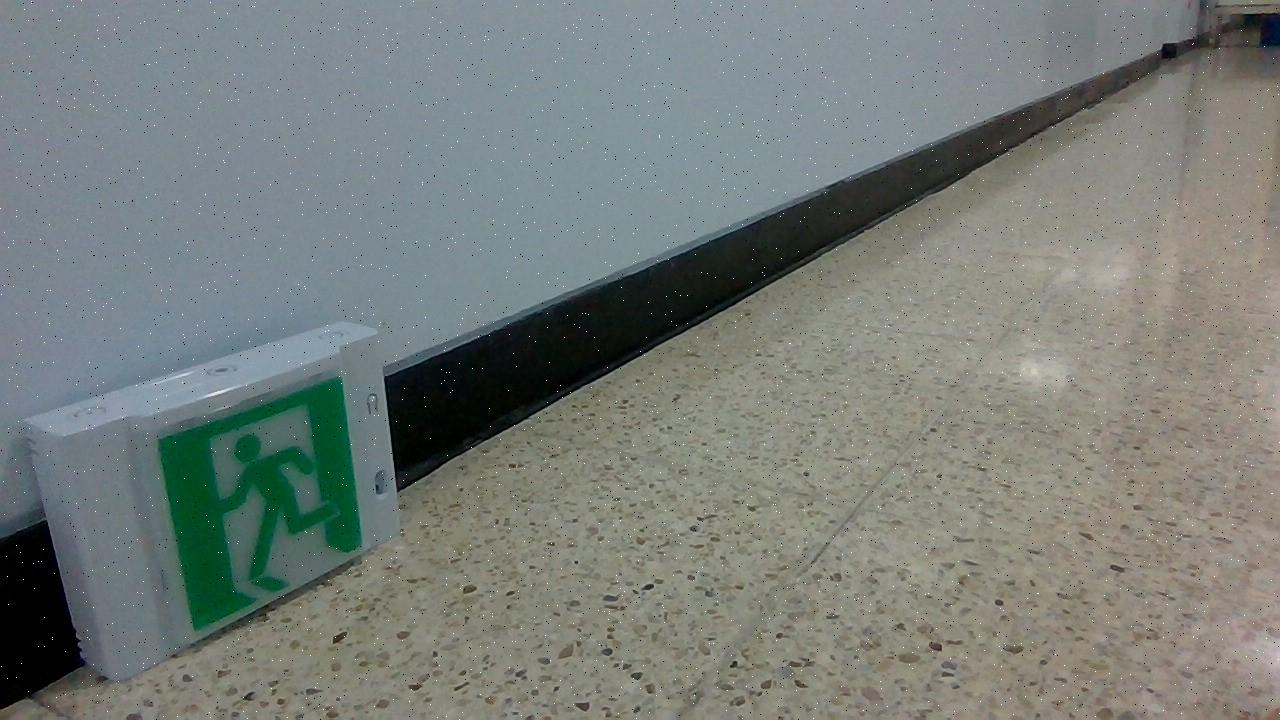emergency_exit: (20, 319, 403, 683)
